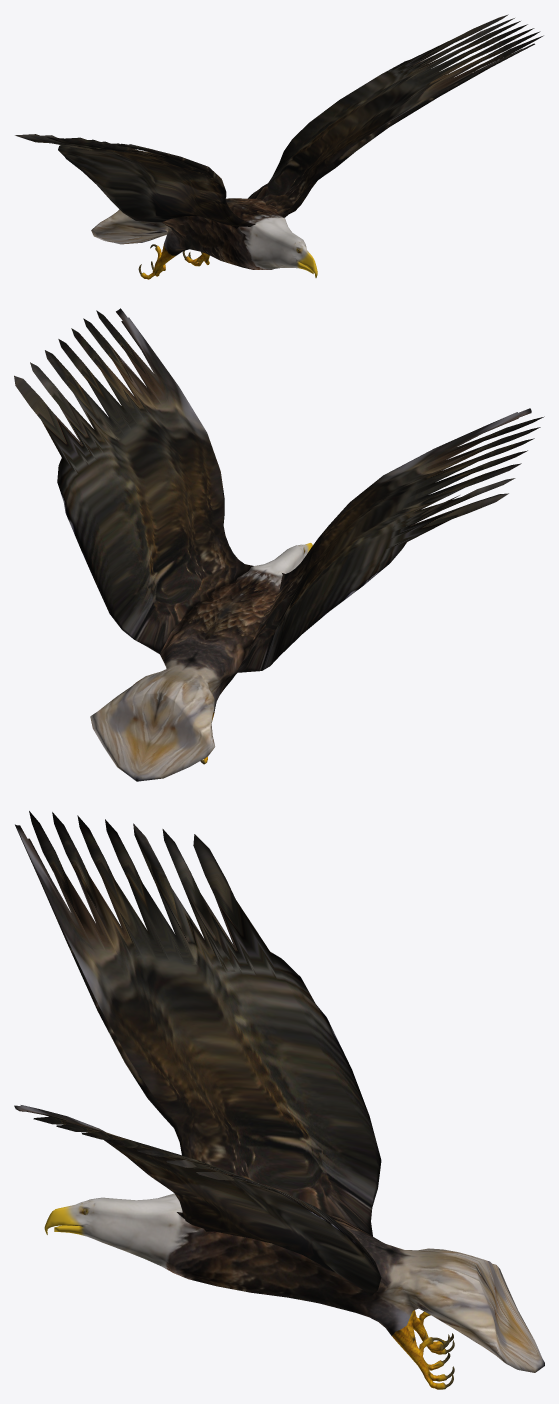
File: Eagle-original_000029.obj
3 views of the same model, one above another, from view 1: azimuth 30°, elevation 25°; view 2: azimuth 150°, elevation 25°; view 3: azimuth 270°, elevation 25° (orthographic). The views are drawn at different scales.
Parts seen in each view (by area): view 1: Flugel_Plane.003; view 2: Flugel_Plane.003; view 3: Flugel_Plane.003.
Boxes of the visible parts, box(x1,y1,x2,y2) form: Flugel_Plane.003: box(15, 14, 543, 279); Flugel_Plane.003: box(14, 308, 544, 781); Flugel_Plane.003: box(14, 811, 544, 1389).
Size of the model in its own units: 9.3 by 5.17 by 6.16.
Materials: 1 (1 with a texture image).
